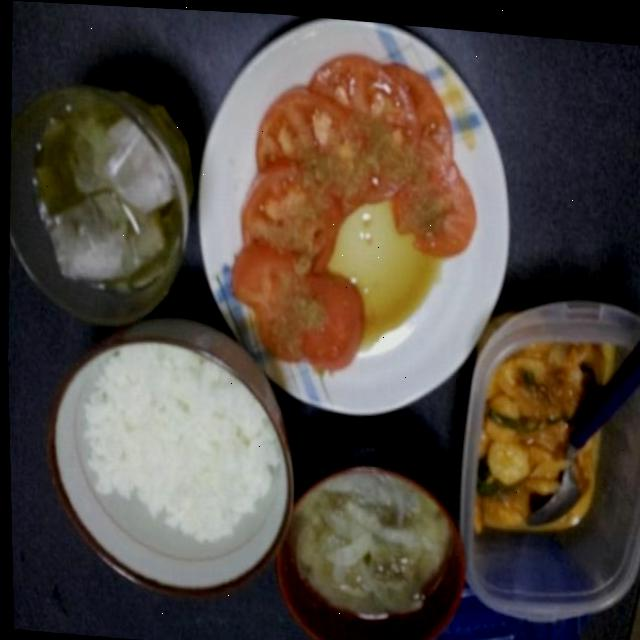米饭主食: (33, 340, 301, 612)
